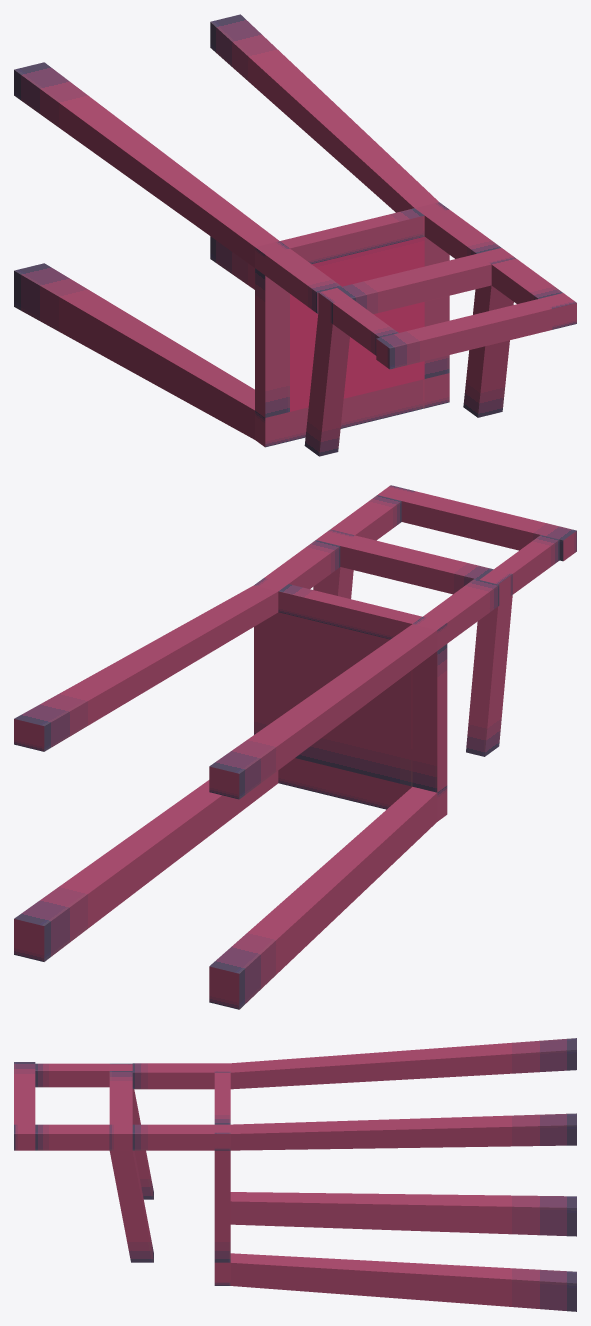
The model's file is 162_rantavahtituoli.gltf.
3 renders of one model, top to bottom at view 1: azimuth 30°, elevation 25°; view 2: azimuth 150°, elevation 25°; view 3: azimuth 270°, elevation 25°, orthographic. The views are drawn at different scales.
Visible parts, largest first — view 1: rantavahtituoli; view 2: rantavahtituoli; view 3: rantavahtituoli.
Boxes of the visible parts, <box> form: rantavahtituoli: <box>14,14,576,456</box>; rantavahtituoli: <box>14,485,576,1009</box>; rantavahtituoli: <box>14,1038,576,1311</box>.
Size of the model in its own units: 2.46 by 2.46 by 6.72.
Materials: 1 (1 with a texture image).
